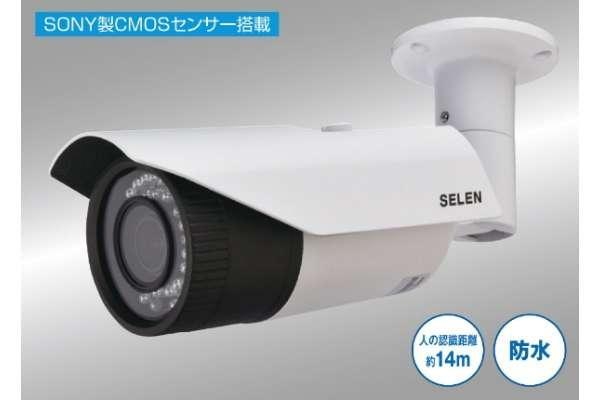tutu: (48, 14, 561, 337)
